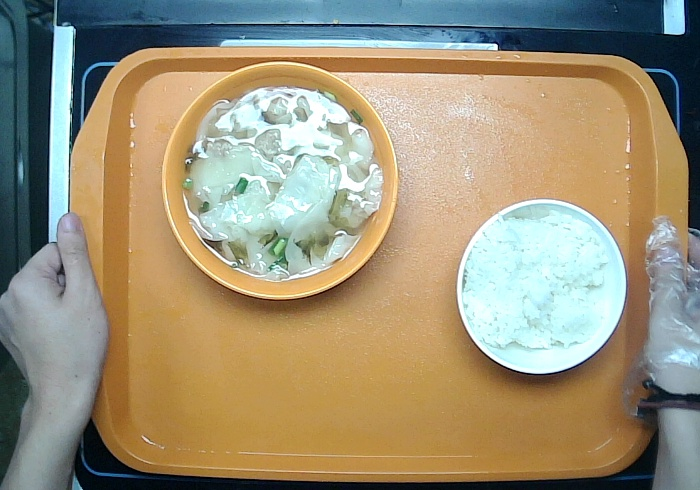NLDX-Fan_Wan: (452, 196, 630, 378)
NLDX-Hun_Tun_Wan: (158, 57, 401, 303)
